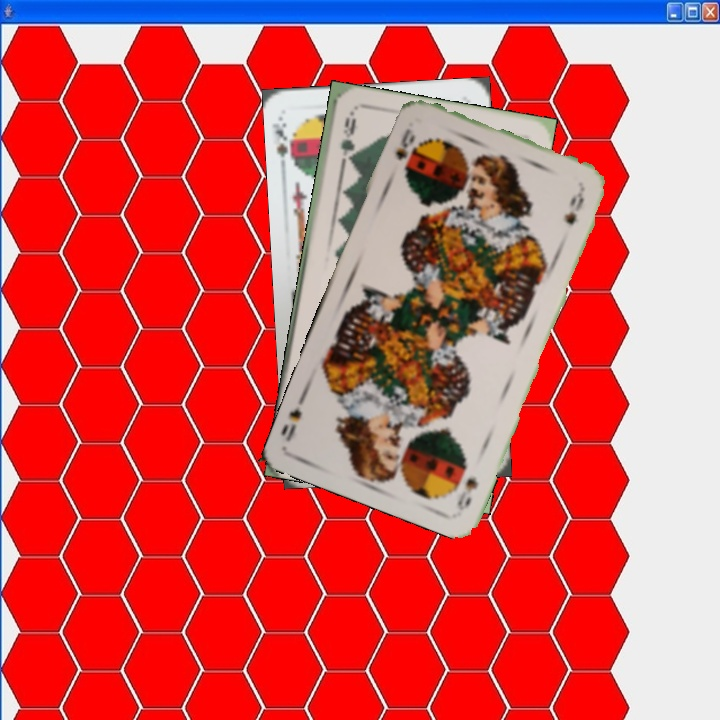G9: (336, 109, 359, 168)
SK: (271, 113, 300, 172)
SO: (391, 124, 418, 172), (453, 473, 481, 514)
